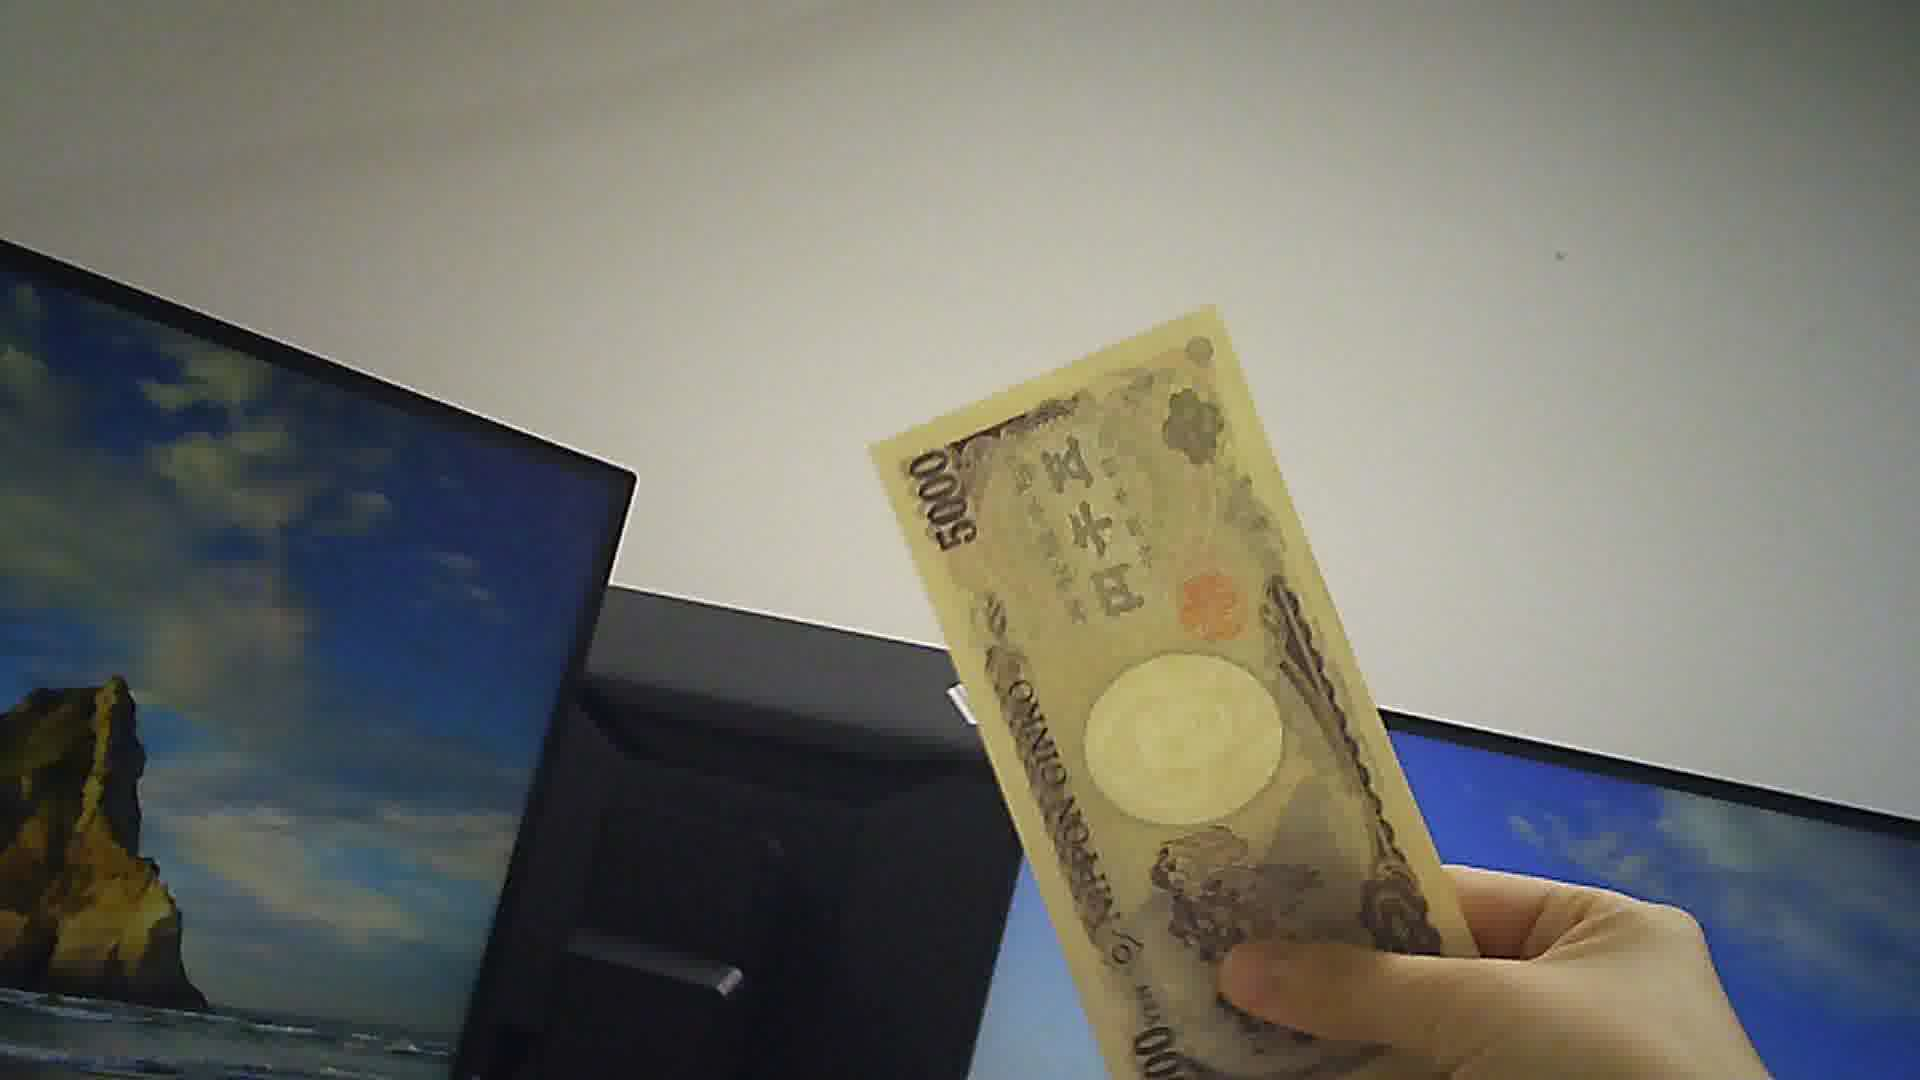5,000 Yen: (870, 336, 1480, 1079)
